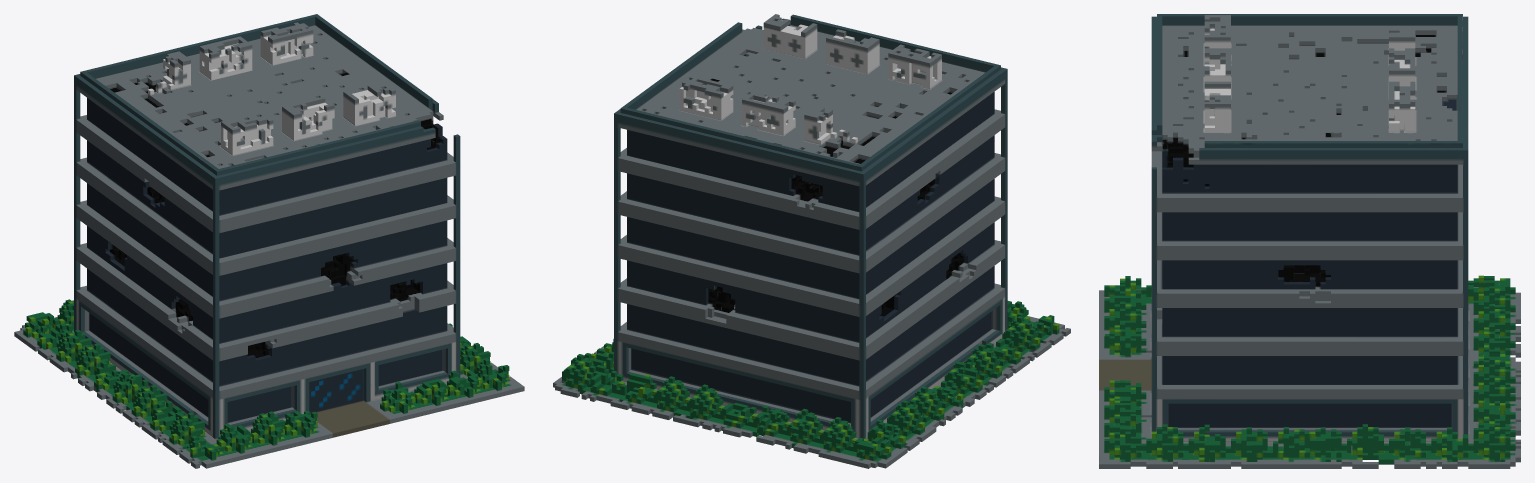
File: building_big_1_damaged.glb
3 renders of one model, left to right at view 1: azimuth 30°, elevation 25°; view 2: azimuth 150°, elevation 25°; view 3: azimuth 270°, elevation 25°, orthographic. The views are drawn at different scales.
Visible parts, largest first — view 1: building_big_1_damaged; view 2: building_big_1_damaged; view 3: building_big_1_damaged.
Boxes of the visible parts, x1,y1,x2,y2 form: building_big_1_damaged: [14, 14, 524, 468]; building_big_1_damaged: [553, 14, 1070, 468]; building_big_1_damaged: [1099, 14, 1520, 468].
Size of the model in its own units: 8 by 6.7 by 8.
1 material, 1 textured.
